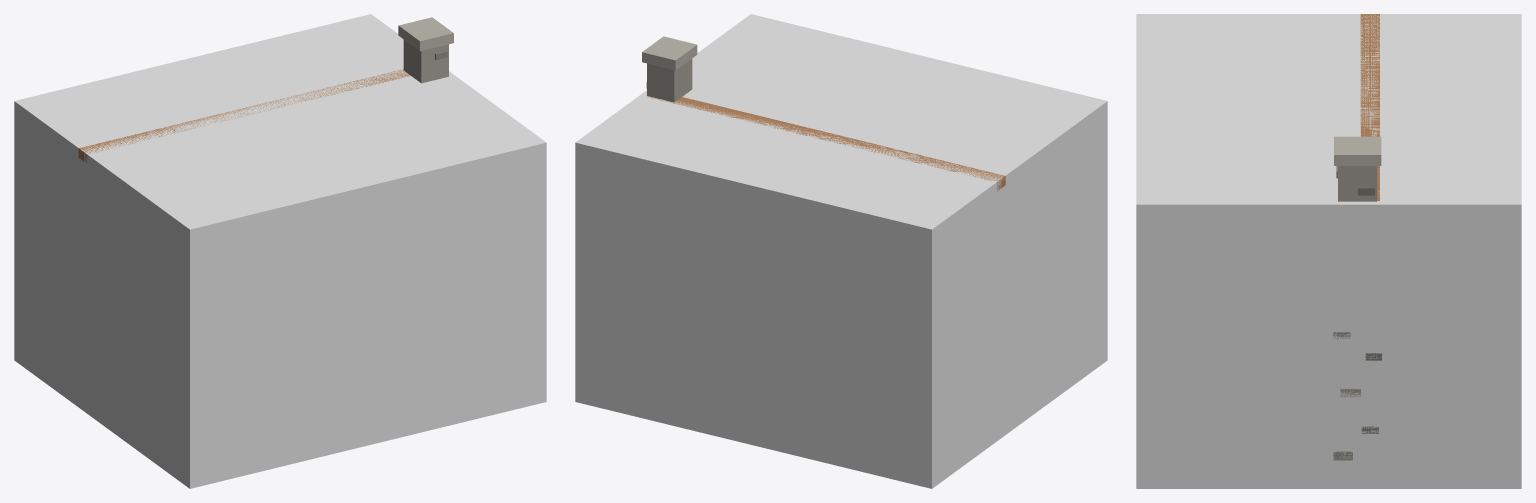
Rendered from FMS_House.fbx.
The picture shows the model from 3 angles, left to right: view 1: azimuth 30°, elevation 25°; view 2: azimuth 150°, elevation 25°; view 3: azimuth 270°, elevation 25°; orthographic projection. The views are drawn at different scales.
Visible parts, largest first — view 1: FMS_House_Col, FMS_House_LOD0; view 2: FMS_House_Col, FMS_House_LOD0; view 3: FMS_House_Col, FMS_House_LOD0.
Boxes of the visible parts, x1,y1,x2,y2 form: FMS_House_Col: [14, 14, 546, 488]; FMS_House_LOD0: [78, 17, 453, 163]; FMS_House_Col: [575, 14, 1107, 488]; FMS_House_LOD0: [642, 36, 1005, 191]; FMS_House_Col: [1136, 14, 1521, 488]; FMS_House_LOD0: [1333, 14, 1381, 460].
Size of what is drawn, in the model's own units: 7.81 by 6.35 by 6.66.
1 material, 1 textured.
